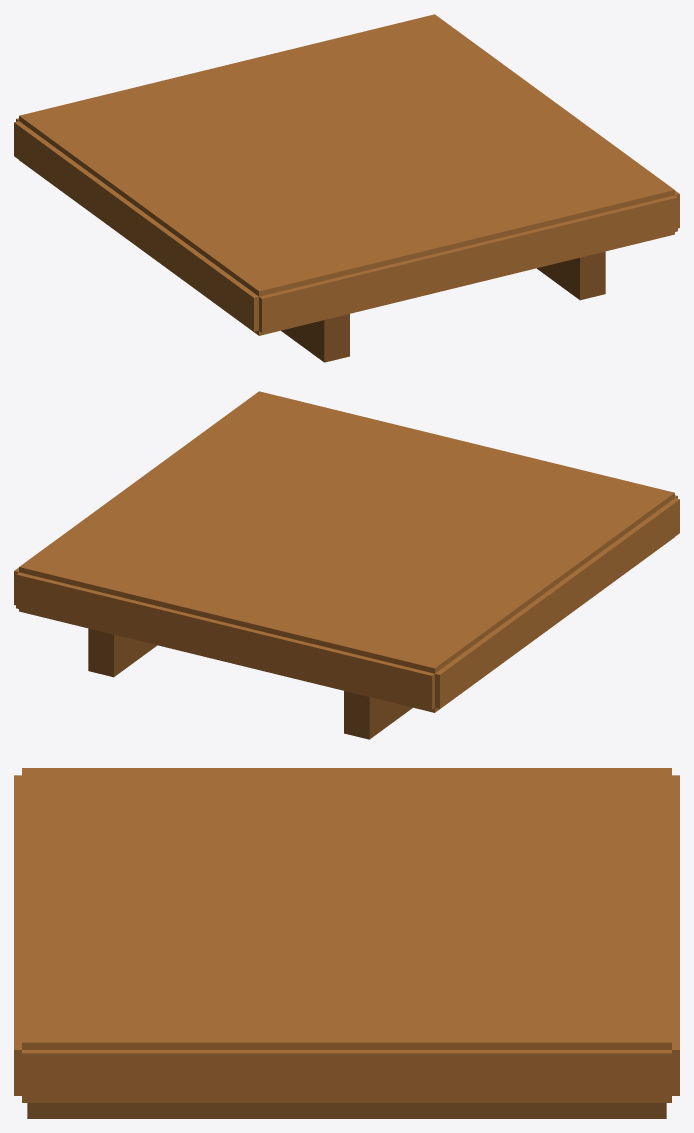
Rendered from lihzahrd_platform_v0.glb.
3 renders of one model, top to bottom at view 1: azimuth 30°, elevation 25°; view 2: azimuth 150°, elevation 25°; view 3: azimuth 270°, elevation 25°, orthographic. The views are drawn at different scales.
Visible parts, largest first — view 1: lihzahrd_platform_v0; view 2: lihzahrd_platform_v0; view 3: lihzahrd_platform_v0.
Boxes of the visible parts, x1,y1,x2,y2 form: lihzahrd_platform_v0: (14,14,679,362); lihzahrd_platform_v0: (14,391,679,739); lihzahrd_platform_v0: (14,768,679,1118).
Bounding box in the file's own units: 1 × 0.2 × 1.
